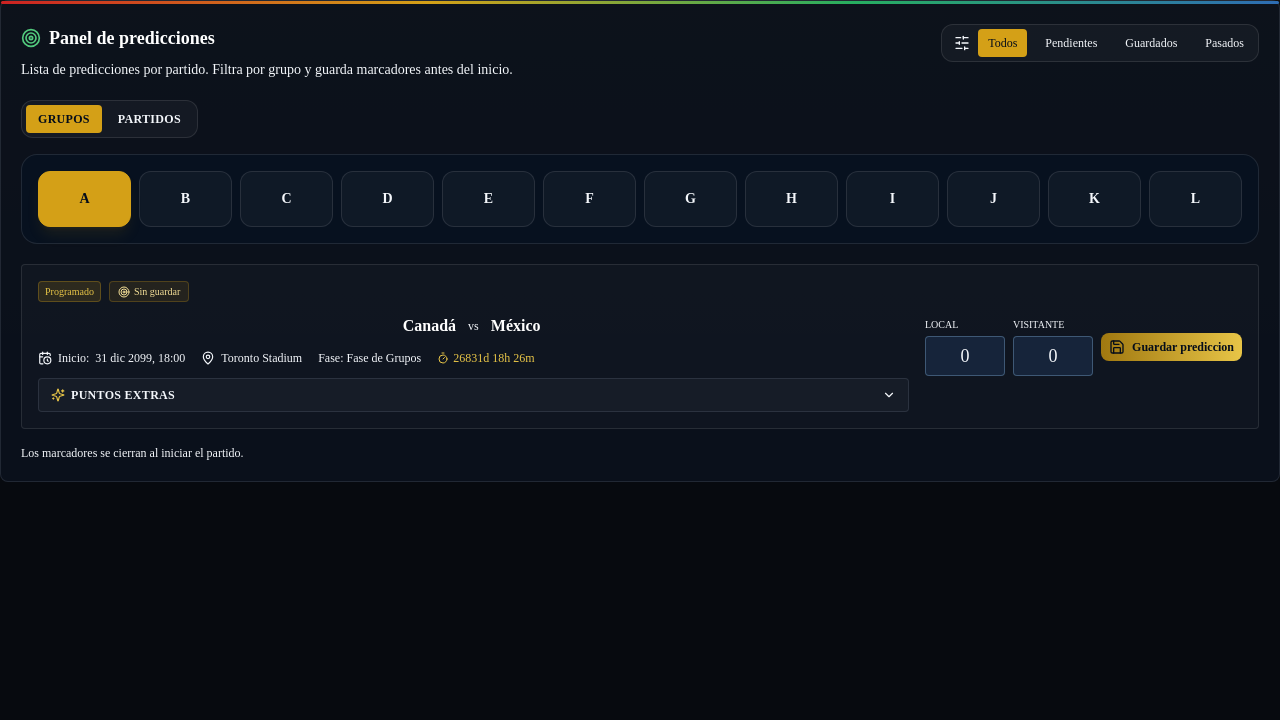
Scenario: PredictionPanel › shows today-filter empty state when no matches are scheduled today
Expected: the text "Canadá" is shown, [403,317,456,334]
// Switch to by-day view
What coordinates should you click on to do the following:
click the button "Partidos"
I would click on:
 (149, 119)
Its box is [106,105,193,133].
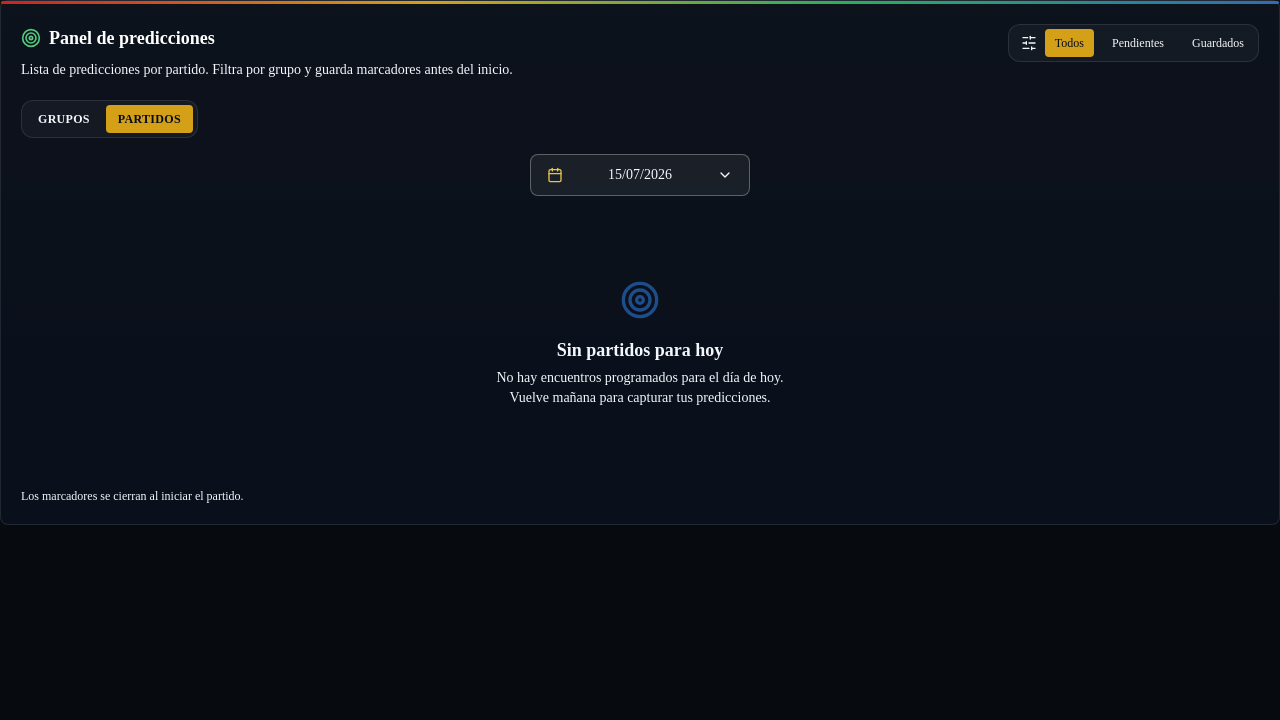
Expected: the heading "Sin partidos para hoy" is shown, [557,336,723,364]
